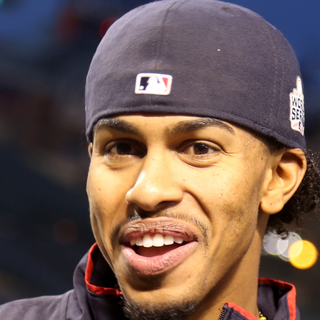eye: (172, 136, 228, 164), (100, 136, 146, 161)
